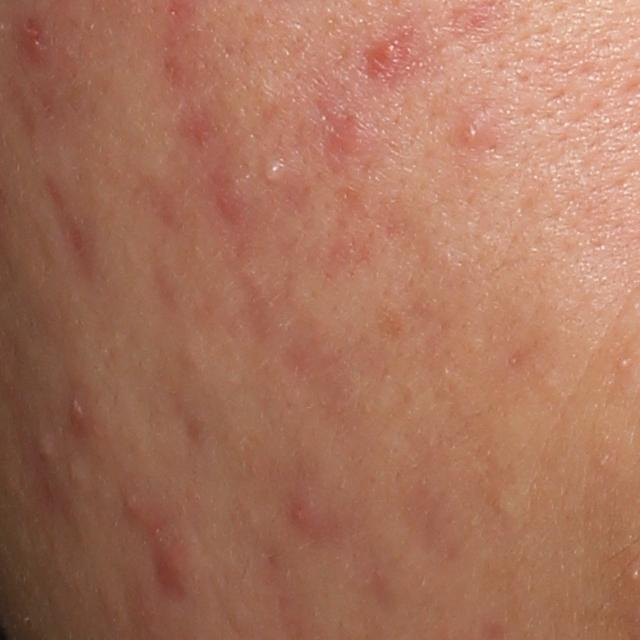comedo: (63, 457, 88, 492), (488, 486, 516, 517), (35, 434, 60, 467), (614, 352, 632, 372)
papule: (281, 476, 342, 548), (149, 520, 197, 605), (116, 463, 168, 529), (448, 113, 494, 161), (61, 397, 89, 433)
